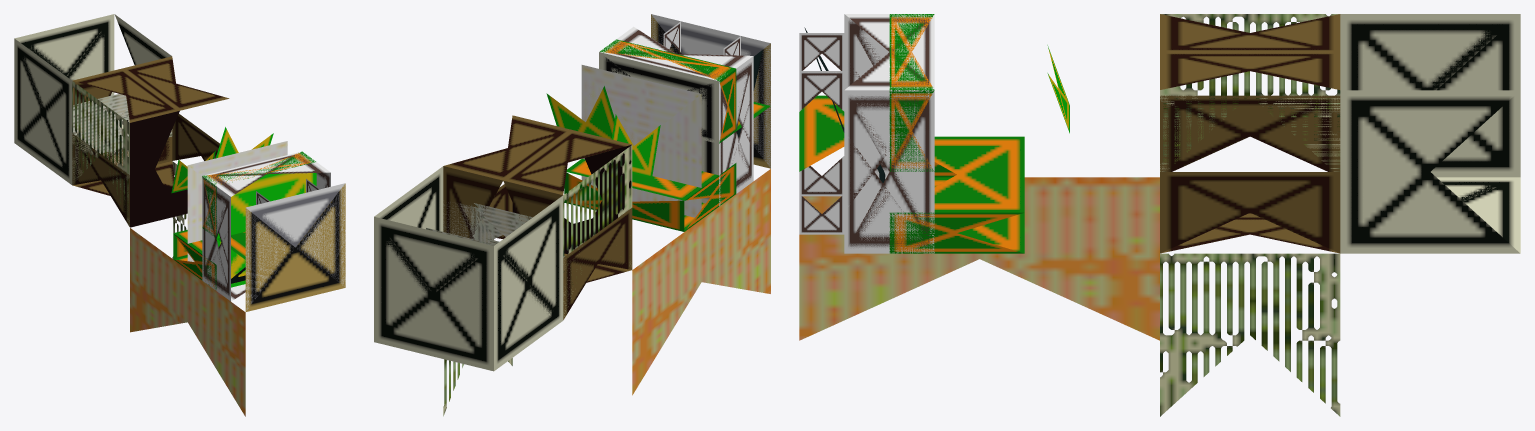
The model's file is town_geometry_type_02.obj.
3 renders of one model, left to right at view 1: azimuth 30°, elevation 25°; view 2: azimuth 150°, elevation 25°; view 3: azimuth 270°, elevation 25°, orthographic. The views are drawn at different scales.
Parts seen in each view (by area): view 1: face_list_038, face_list_034, face_list_000, face_list_036, face_list_046, face_list_054, face_list_015, face_list_045, face_list_059, face_list_035, face_list_031, face_list_018 (+15 smaller); view 2: face_list_038, face_list_034, face_list_053, face_list_054, face_list_027, face_list_044, face_list_020, face_list_026, face_list_048, face_list_023, face_list_045, face_list_036 (+14 smaller); view 3: face_list_038, face_list_044, face_list_045, face_list_034, face_list_026, face_list_015, face_list_016, face_list_029, face_list_032, face_list_035, face_list_031, face_list_027 (+5 smaller).
Boxes of the visible parts, x1,y1,x2,y2 form: face_list_038: [14, 38, 245, 416]; face_list_034: [15, 39, 129, 225]; face_list_000: [245, 183, 345, 311]; face_list_036: [245, 183, 344, 310]; face_list_046: [246, 183, 345, 286]; face_list_054: [15, 14, 114, 94]; face_list_015: [72, 124, 172, 226]; face_list_045: [122, 56, 229, 258]; face_list_059: [216, 173, 316, 271]; face_list_035: [73, 68, 179, 122]; face_list_031: [203, 152, 330, 196]; face_list_018: [122, 127, 187, 227]; face_list_038: [494, 145, 770, 395]; face_list_034: [494, 145, 632, 370]; face_list_053: [374, 217, 493, 371]; face_list_054: [374, 216, 493, 341]; face_list_027: [599, 52, 753, 205]; face_list_044: [374, 166, 567, 256]; face_list_020: [581, 65, 701, 217]; face_list_026: [564, 159, 736, 231]; face_list_048: [581, 65, 700, 180]; face_list_023: [599, 39, 736, 143]; face_list_045: [443, 115, 571, 416]; face_list_036: [651, 14, 770, 167]; face_list_038: [799, 14, 1520, 340]; face_list_044: [1161, 90, 1519, 253]; face_list_045: [1160, 52, 1340, 416]; face_list_034: [1160, 14, 1519, 215]; face_list_026: [889, 136, 1024, 253]; face_list_015: [1160, 95, 1519, 201]; face_list_016: [1160, 172, 1340, 253]; face_list_029: [799, 90, 934, 251]; face_list_032: [799, 71, 934, 253]; face_list_035: [1160, 14, 1340, 51]; face_list_031: [845, 14, 934, 90]; face_list_027: [799, 14, 888, 196].
Bounding box in the file's own units: 69 × 133 × 256.
31 materials, 31 textured.
